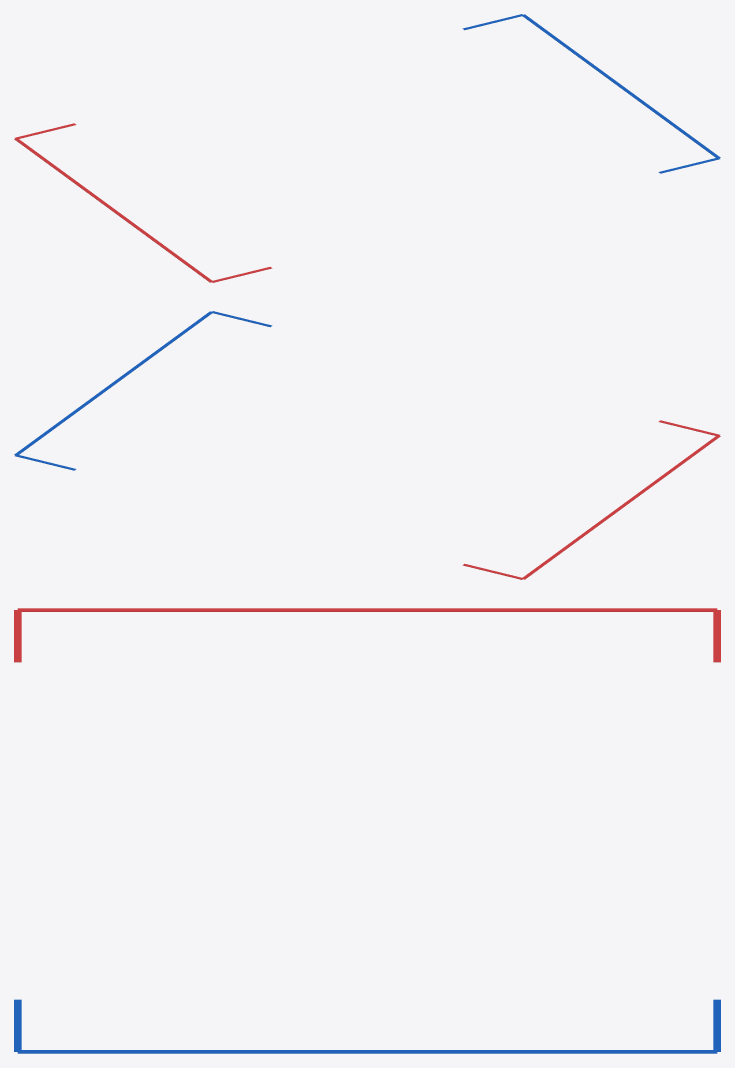
3 renders of one model, top to bottom at view 1: azimuth 30°, elevation 25°; view 2: azimuth 150°, elevation 25°; view 3: azimuth 270°, elevation 25°, orthographic. The views are drawn at different scales.
Size of the model in its own units: 139 by 0.05 by 93.44.
2 materials, 2 textured.
